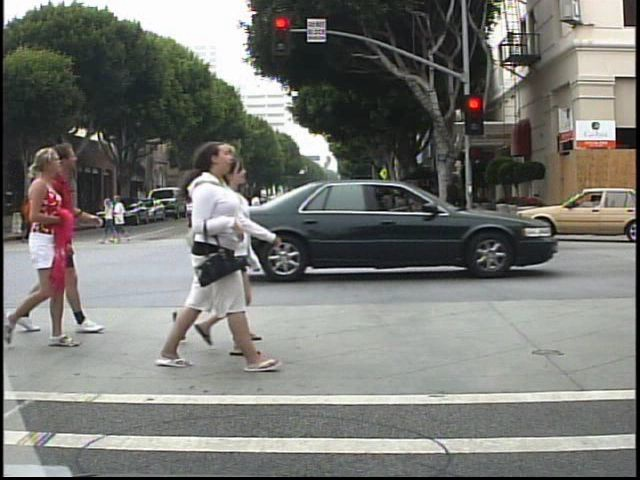person: (169, 137, 261, 380), (201, 148, 278, 352), (211, 159, 282, 368), (21, 147, 77, 353), (43, 138, 86, 336), (358, 177, 385, 241), (188, 185, 210, 248), (246, 183, 269, 241), (44, 193, 68, 248), (52, 186, 68, 237), (352, 187, 368, 223)
